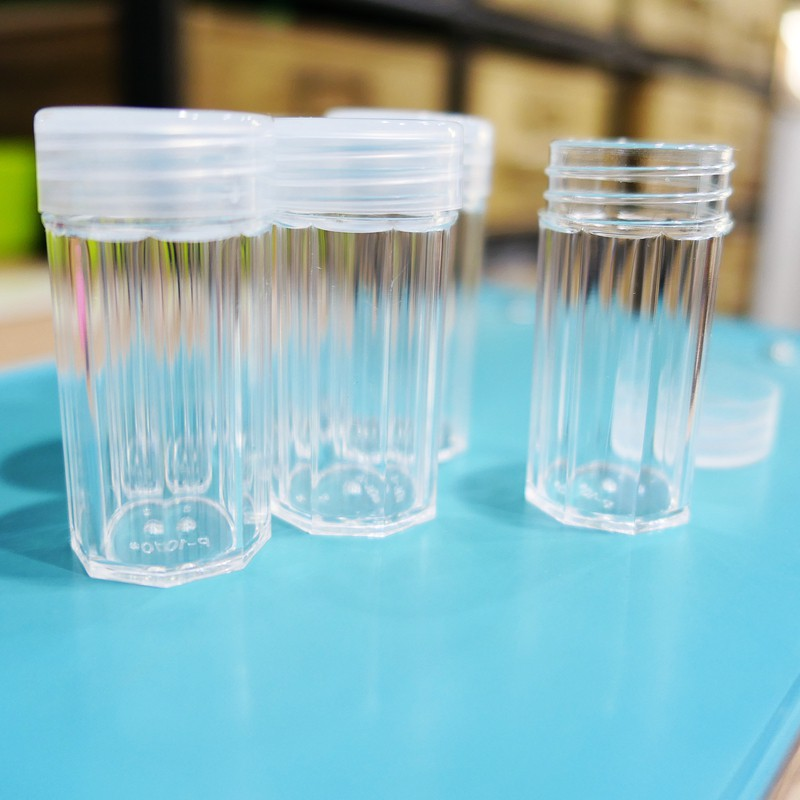medicinejar: (28, 101, 280, 581), (519, 121, 780, 540), (270, 105, 446, 528), (328, 88, 491, 461)
